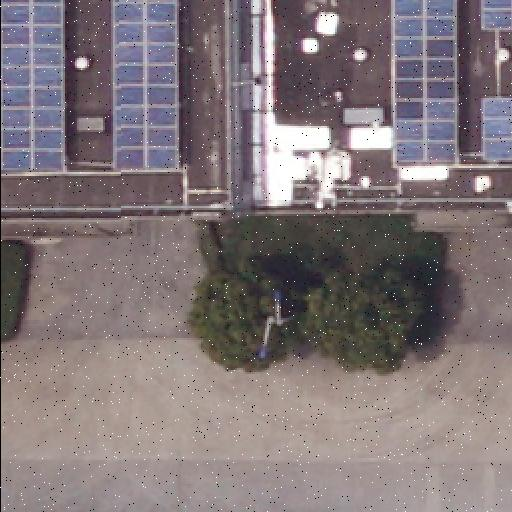solar-panel: (112, 0, 182, 172), (0, 3, 67, 179), (395, 0, 459, 164), (476, 94, 512, 164), (477, 0, 512, 36)
